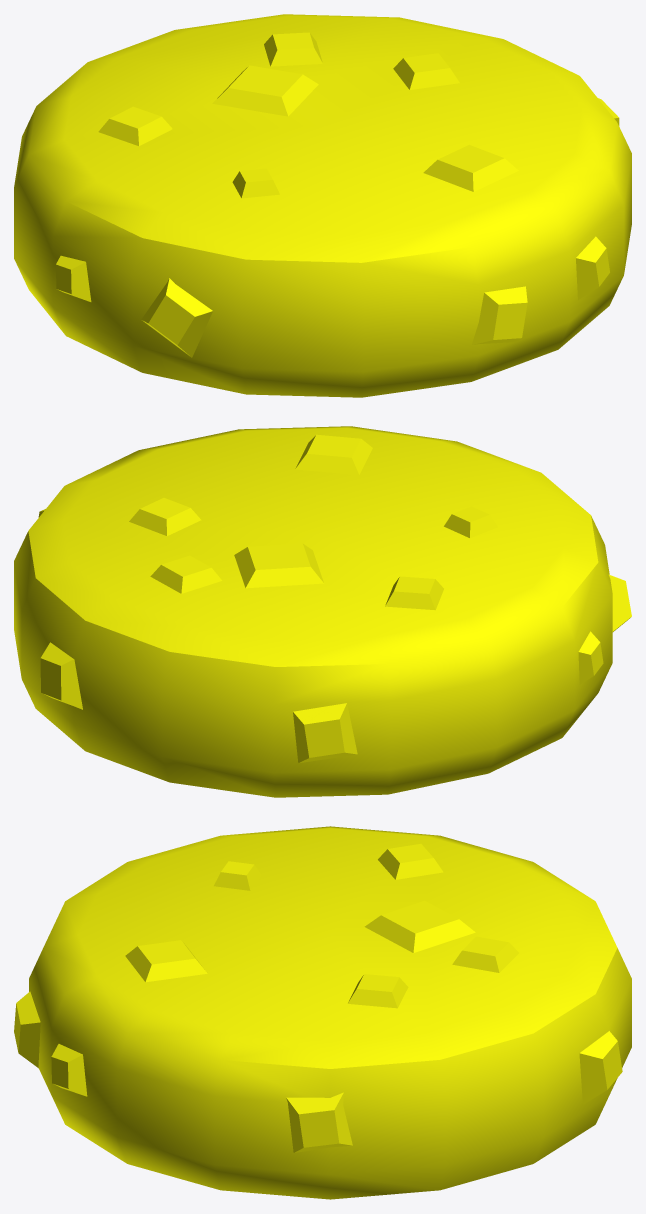
File: kaykit-food-ingredient-vegetableburger-uncooked.glb
3 renders of one model, top to bottom at view 1: azimuth 30°, elevation 25°; view 2: azimuth 150°, elevation 25°; view 3: azimuth 270°, elevation 25°, orthographic. The views are drawn at different scales.
Parts seen in each view (by area): view 1: food_ingredient_vegetableburger_uncooked; view 2: food_ingredient_vegetableburger_uncooked; view 3: food_ingredient_vegetableburger_uncooked.
Part boxes in pixels (left/top/right/bottom): food_ingredient_vegetableburger_uncooked: left=14, top=14, right=631, bottom=397; food_ingredient_vegetableburger_uncooked: left=14, top=426, right=631, bottom=797; food_ingredient_vegetableburger_uncooked: left=14, top=826, right=631, bottom=1199.
Size of the model in its own units: 0.728 by 0.216 by 0.7173.
